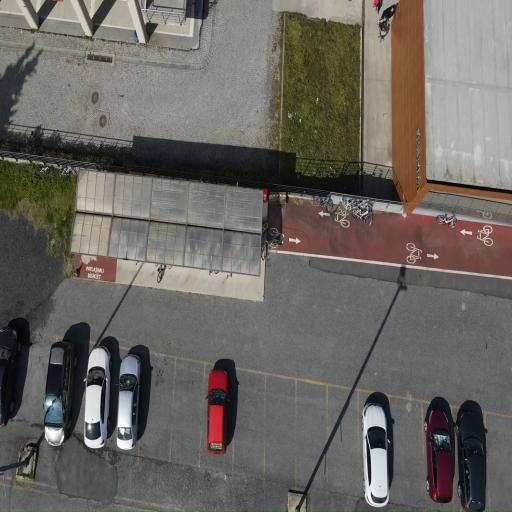car: (44, 341, 77, 445), (455, 411, 486, 511), (362, 403, 389, 507), (424, 408, 453, 502), (85, 347, 111, 448), (117, 355, 141, 449), (0, 327, 21, 427), (207, 370, 227, 453)
person: (380, 4, 397, 21), (378, 19, 389, 40), (374, 0, 382, 15)
